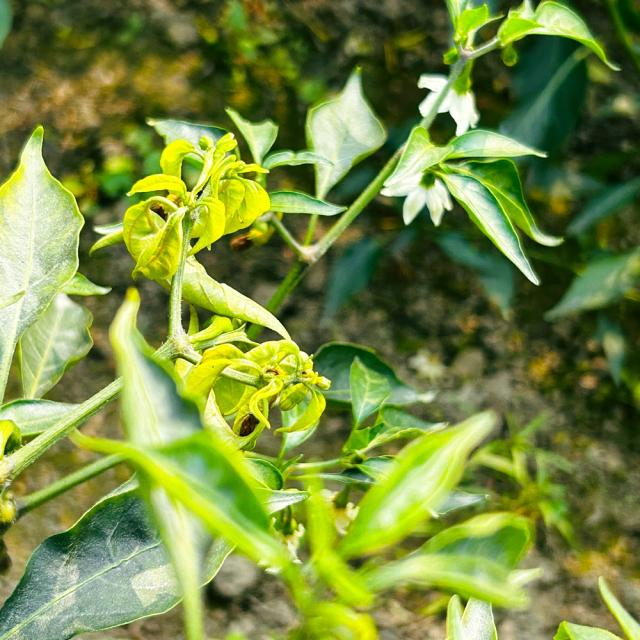Chilli_Leaf_Curl: (1, 1, 627, 638), (0, 474, 234, 638), (379, 123, 564, 286), (415, 0, 621, 135), (334, 408, 500, 560), (0, 123, 87, 404), (120, 129, 271, 288), (185, 337, 331, 450), (303, 65, 388, 202), (495, 0, 621, 72)
